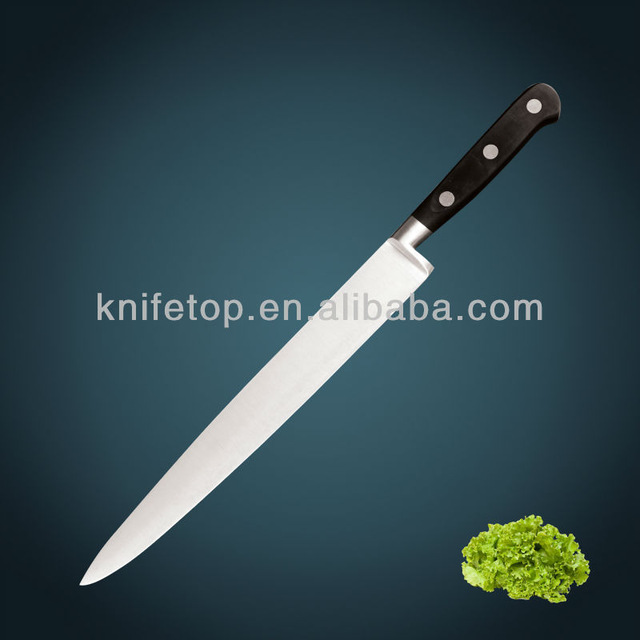knief: (82, 83, 559, 595)
